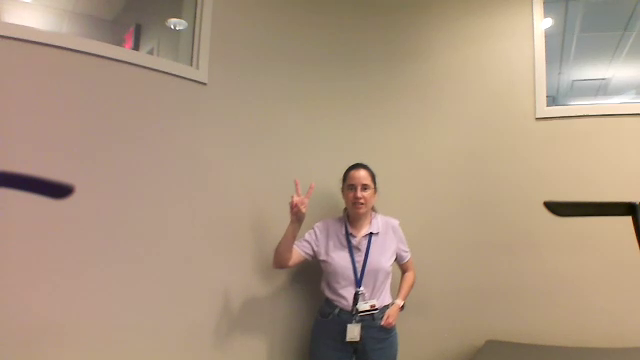peace: (288, 176, 317, 218)
